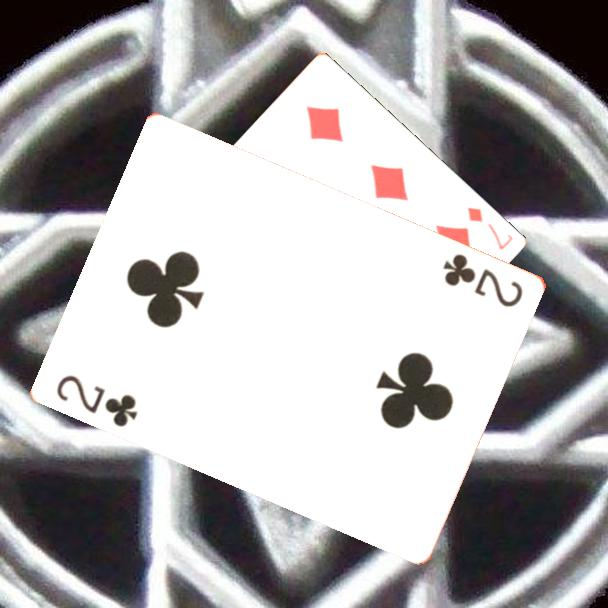c02: (440, 249, 527, 310), (53, 371, 142, 430)
d07: (464, 203, 517, 253)
